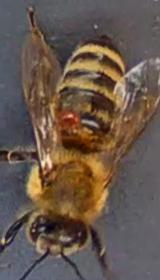varroa_mite: (42, 102, 93, 136)
